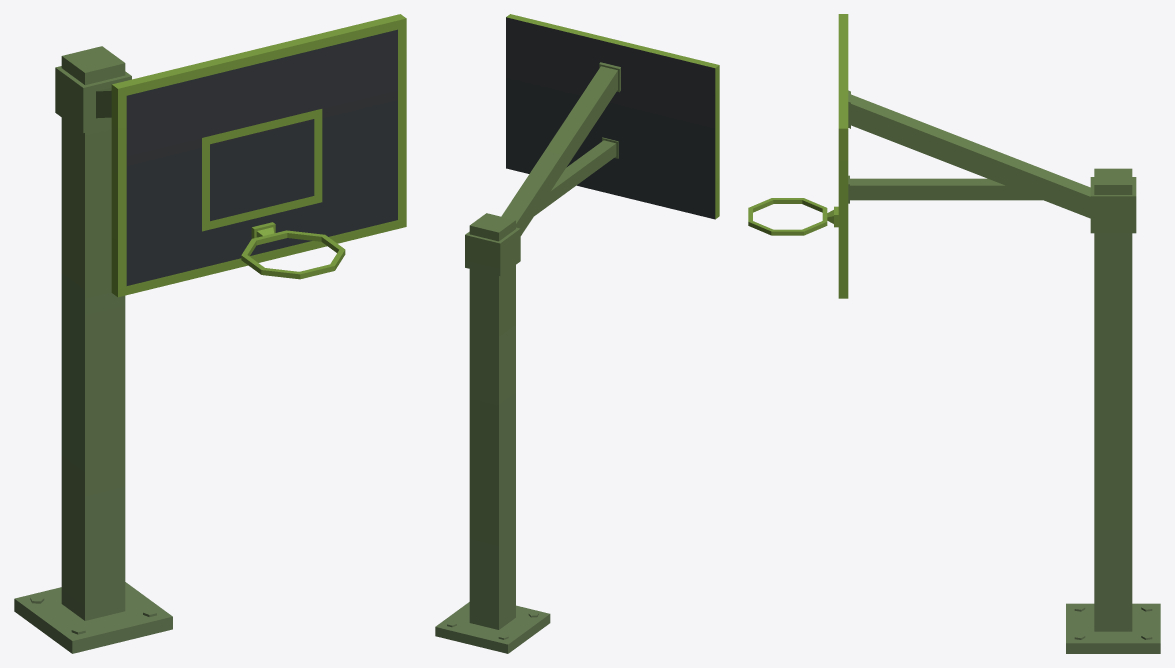
File: Basketball_01.fbx
3 views of the same model, side by side, from view 1: azimuth 30°, elevation 25°; view 2: azimuth 150°, elevation 25°; view 3: azimuth 270°, elevation 25° (orthographic). The views are drawn at different scales.
Parts seen in each view (by area): view 1: Basketball_01; view 2: Basketball_01; view 3: Basketball_01.
Part boxes in pixels (x1=…): Basketball_01: x1=14, y1=14, x2=406, y2=653; Basketball_01: x1=435, y1=14, x2=719, y2=653; Basketball_01: x1=748, y1=14, x2=1160, y2=653.
Bounding box in the file's own units: 1.37 × 3.13 × 2.08.
